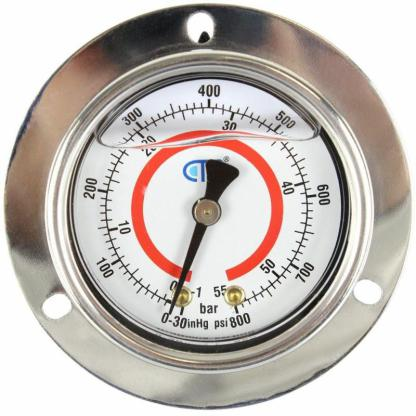needle: (167, 221, 209, 317)
